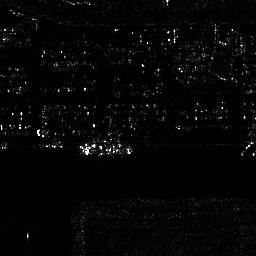ship: (79, 141, 134, 158)
